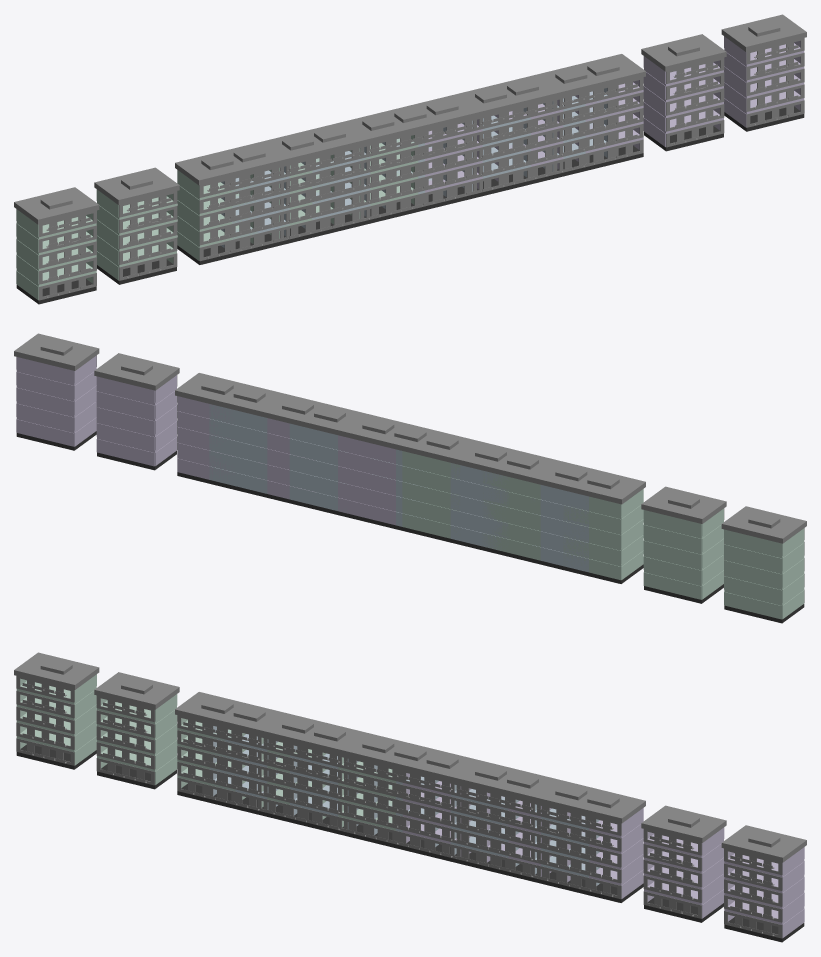
Rendered from green-valley-001.glb.
3 renders of one model, top to bottom at view 1: azimuth 30°, elevation 25°; view 2: azimuth 150°, elevation 25°; view 3: azimuth 330°, elevation 25°, orthographic.
Visible parts, largest first — view 1: block_block-c_geometry_3, block_block-a_geometry_0, block_block-a_geometry_1, block_block-c_geometry_4, block_block-a_geometry_2, block_block-a_geometry_4, block_block-c_geometry_2, block_block-c_geometry_0, block_block-b_geometry_1, block_block-a_geometry_3, block_block-b_geometry_4, block_block-b_geometry_3 (+3 smaller); view 2: block_block-c_geometry_3, block_block-a_geometry_0, block_block-a_geometry_1, block_block-c_geometry_4, block_block-a_geometry_2, block_block-b_geometry_4, block_block-c_geometry_0, block_block-a_geometry_4, block_block-a_geometry_3, block_block-b_geometry_1, block_block-b_geometry_3, block_block-b_geometry_0 (+3 smaller); view 3: block_block-a_geometry_1, block_block-c_geometry_4, block_block-c_geometry_3, block_block-a_geometry_0, block_block-c_geometry_2, block_block-a_geometry_2, block_block-a_geometry_4, block_block-b_geometry_3, block_block-b_geometry_4, block_block-c_geometry_0, block_block-b_geometry_0, block_block-b_geometry_1 (+3 smaller).
Part boxes in pixels (bbox=[...]): block_block-c_geometry_3: bbox=[641, 34, 726, 151]; block_block-a_geometry_0: bbox=[14, 187, 99, 304]; block_block-a_geometry_1: bbox=[94, 167, 179, 284]; block_block-c_geometry_4: bbox=[721, 14, 806, 131]; block_block-a_geometry_2: bbox=[175, 148, 259, 264]; block_block-a_geometry_4: bbox=[336, 108, 420, 223]; block_block-c_geometry_2: bbox=[561, 54, 645, 170]; block_block-c_geometry_0: bbox=[406, 93, 485, 210]; block_block-b_geometry_1: bbox=[288, 123, 372, 237]; block_block-a_geometry_3: bbox=[255, 128, 340, 245]; block_block-b_geometry_4: bbox=[529, 62, 613, 176]; block_block-b_geometry_3: bbox=[461, 81, 532, 197]; block_block-c_geometry_3: bbox=[94, 353, 179, 470]; block_block-a_geometry_0: bbox=[721, 506, 806, 623]; block_block-a_geometry_1: bbox=[641, 486, 726, 603]; block_block-c_geometry_4: bbox=[14, 333, 99, 450]; block_block-a_geometry_2: bbox=[561, 467, 645, 583]; block_block-b_geometry_4: bbox=[207, 380, 291, 497]; block_block-c_geometry_0: bbox=[335, 412, 418, 529]; block_block-a_geometry_4: bbox=[400, 427, 484, 542]; block_block-a_geometry_3: bbox=[480, 447, 565, 564]; block_block-b_geometry_1: bbox=[448, 442, 532, 556]; block_block-b_geometry_3: bbox=[287, 400, 359, 515]; block_block-b_geometry_0: bbox=[531, 462, 613, 576]; block_block-a_geometry_1: bbox=[94, 672, 179, 789]; block_block-c_geometry_4: bbox=[721, 825, 806, 942]; block_block-c_geometry_3: bbox=[641, 805, 726, 922]; block_block-a_geometry_0: bbox=[14, 652, 99, 769]; block_block-c_geometry_2: bbox=[561, 786, 645, 902]; block_block-a_geometry_2: bbox=[175, 692, 259, 808]; block_block-a_geometry_4: bbox=[335, 731, 419, 848]; block_block-b_geometry_3: bbox=[448, 761, 532, 875]; block_block-b_geometry_4: bbox=[528, 779, 613, 895]; block_block-c_geometry_0: bbox=[400, 746, 484, 861]; block_block-b_geometry_0: bbox=[207, 706, 291, 816]; block_block-b_geometry_1: bbox=[287, 720, 359, 833].
Size of what is drawn, in the model's own units: 239 by 26.5 by 13.4.
